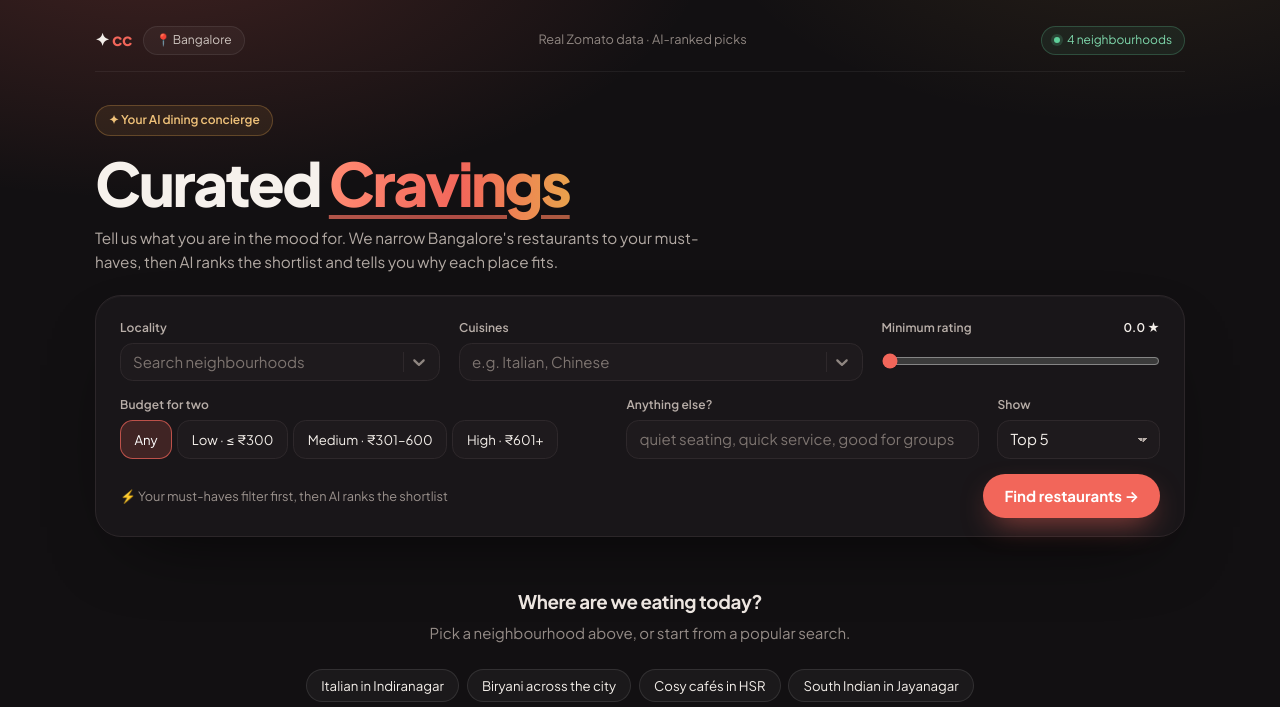
searching › asks for a neighbourhood first
Click the button "Find restaurants →".
click(1072, 496)  # box [983,474,1160,518]
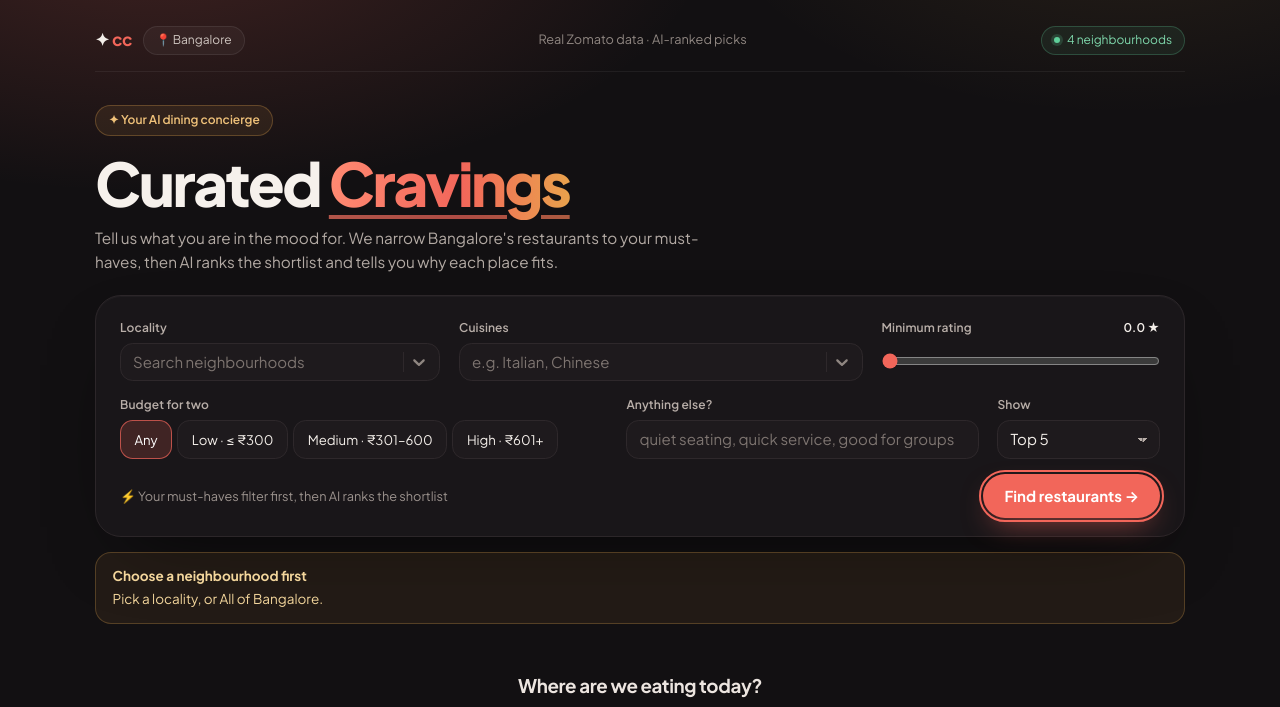
Expected: the text "Choose a neighbourhood first" is shown, [112,567,307,584]
